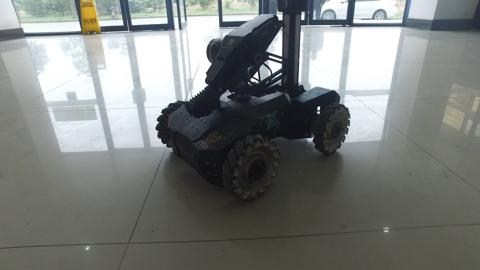car: (310, 1, 399, 24)
chariot: (153, 1, 351, 202)
